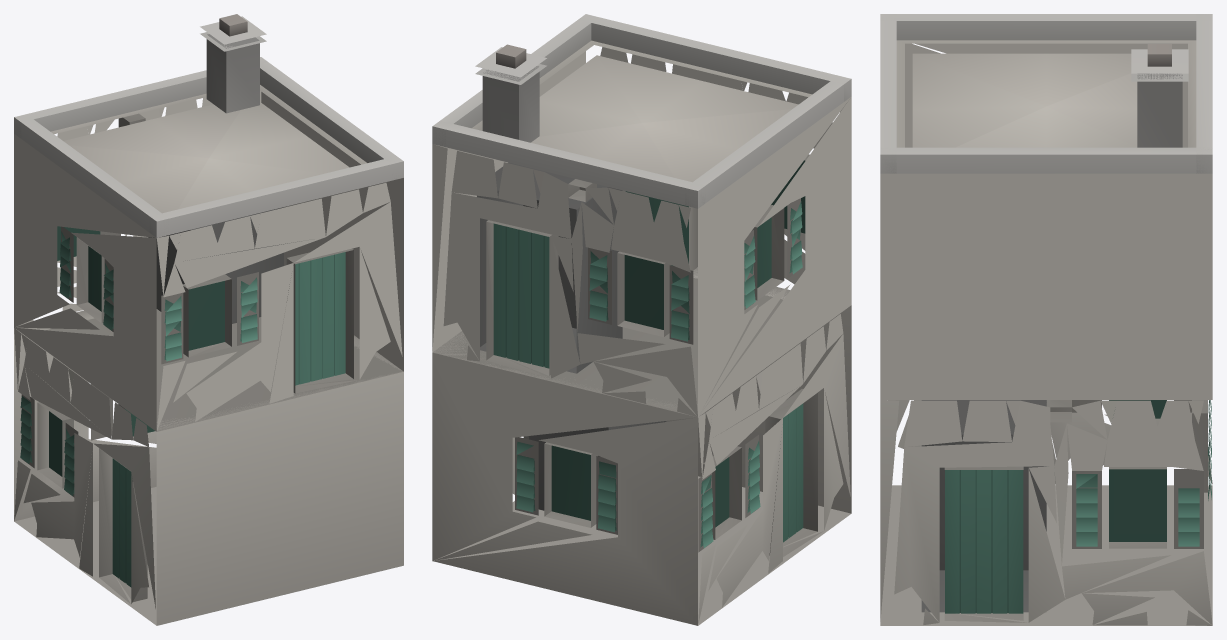
The picture shows the model from 3 angles, left to right: view 1: azimuth 30°, elevation 25°; view 2: azimuth 150°, elevation 25°; view 3: azimuth 270°, elevation 25°; orthographic projection. The views are drawn at different scales.
Visible parts, largest first — view 1: cube2b; view 2: cube2b; view 3: cube2b.
Part boxes in pixels (x1,y1,x2,y2): cube2b: (14, 14, 403, 625); cube2b: (432, 14, 851, 625); cube2b: (880, 14, 1212, 625).
Size of the model in its own units: 4.4 by 8 by 4.4.
